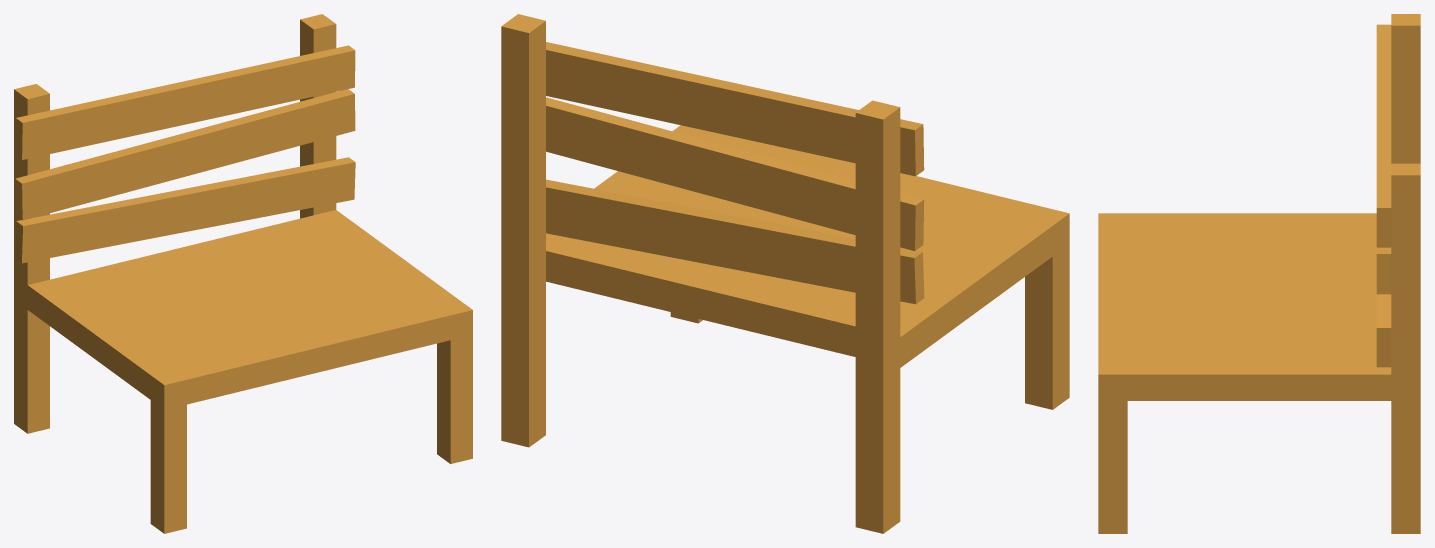
File: egypt-egypt-market-table-short.glb
The picture shows the model from 3 angles, left to right: view 1: azimuth 30°, elevation 25°; view 2: azimuth 150°, elevation 25°; view 3: azimuth 270°, elevation 25°; orthographic projection. The views are drawn at different scales.
Visible parts, largest first — view 1: egypt-market-table-short; view 2: egypt-market-table-short; view 3: egypt-market-table-short.
Boxes of the visible parts, x1=… form: egypt-market-table-short: x1=14, y1=14, x2=472, y2=533; egypt-market-table-short: x1=501, y1=14, x2=1069, y2=533; egypt-market-table-short: x1=1098, y1=14, x2=1420, y2=533.
Bounding box in the file's own units: 1.41 × 1.35 × 1.1.
